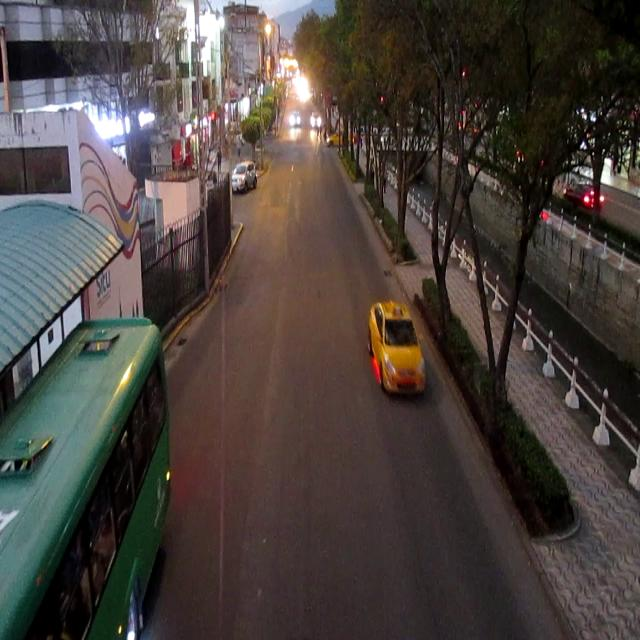BUS: (0, 312, 168, 636)
SUV: (234, 162, 258, 192)
